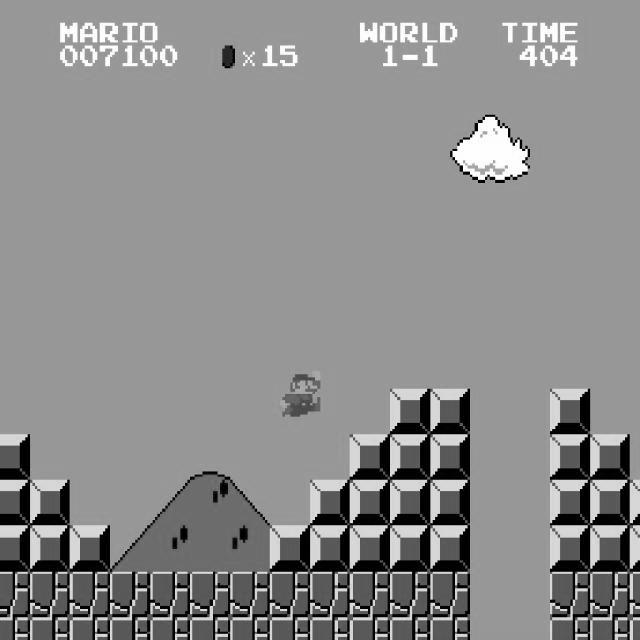11- little_mario: (277, 369, 320, 417)
17- undestructible_block: (30, 572, 70, 618), (70, 572, 110, 618), (110, 572, 150, 618), (150, 572, 190, 618), (190, 572, 230, 618), (230, 572, 270, 618), (270, 572, 310, 618), (310, 572, 350, 618), (350, 572, 390, 618), (390, 572, 430, 618), (430, 572, 470, 618), (550, 572, 590, 618), (590, 572, 630, 618), (0, 572, 30, 618), (30, 617, 70, 640), (70, 617, 110, 640), (110, 617, 150, 640), (150, 617, 190, 640), (190, 617, 230, 640), (230, 617, 270, 640), (270, 617, 310, 640), (310, 617, 350, 640), (350, 617, 390, 640), (390, 617, 430, 640), (430, 617, 470, 640), (550, 617, 590, 640), (590, 617, 630, 640), (0, 617, 30, 640), (629, 571, 640, 617), (629, 617, 640, 639)
9- hard_block: (30, 480, 70, 526), (30, 526, 70, 572), (70, 526, 110, 572), (270, 526, 310, 572), (310, 480, 350, 526), (310, 526, 350, 572), (350, 434, 390, 480), (350, 480, 390, 526), (350, 526, 390, 572), (390, 388, 430, 434), (390, 434, 430, 480), (390, 480, 430, 526), (390, 526, 430, 572), (430, 388, 470, 434), (430, 434, 470, 480), (430, 480, 470, 526), (430, 526, 470, 572), (550, 388, 590, 434), (550, 434, 590, 480), (550, 480, 590, 526), (550, 526, 590, 572), (590, 434, 630, 480), (590, 480, 630, 526), (590, 526, 630, 572), (0, 434, 30, 480), (0, 480, 30, 526), (0, 526, 30, 572), (629, 525, 640, 571), (629, 480, 640, 525)
